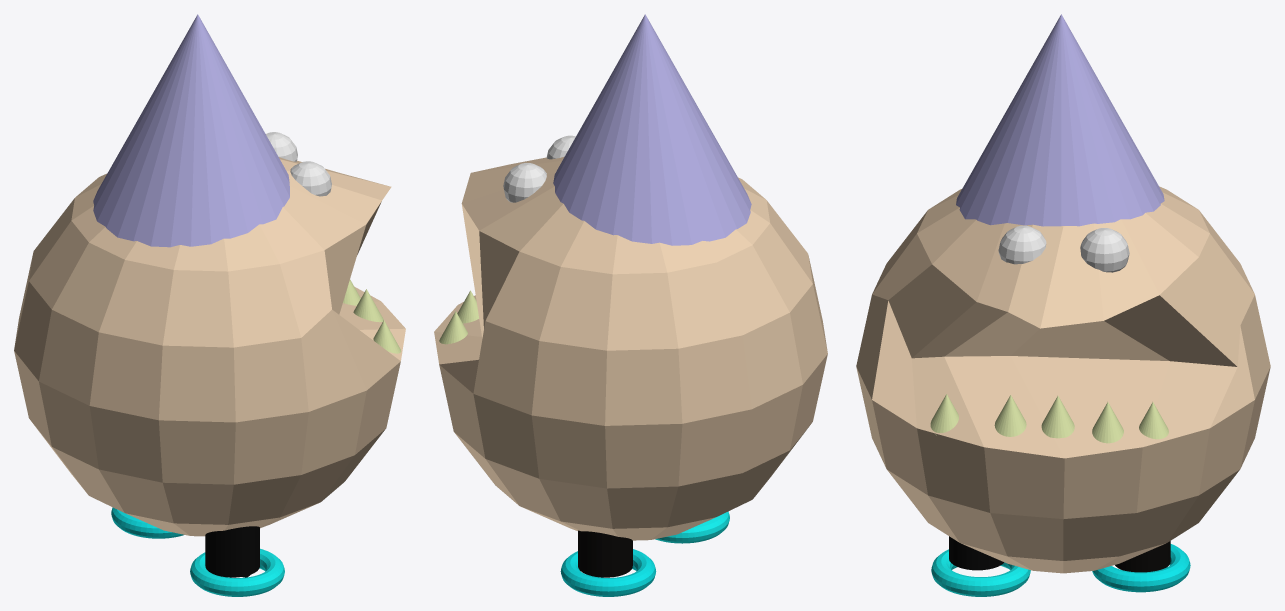
File: enemy.fbx
3 renders of one model, left to right at view 1: azimuth 30°, elevation 25°; view 2: azimuth 150°, elevation 25°; view 3: azimuth 270°, elevation 25°, orthographic. The views are drawn at different scales.
Parts seen in each view (by area): view 1: Sphere, Cone, Cylinder, Torus, Sphere.001, Torus.001, Sphere.002, Cone.002; view 2: Sphere, Cone, Torus.001, Cylinder.001, Sphere.002, Torus, Cone.004; view 3: Sphere, Cone, Torus, Torus.001, Sphere.002, Sphere.001, Cylinder, Cylinder.001, Cone.003, Cone.002, Cone.001, Cone.005 (+1 smaller).
Boxes of the visible parts, box(x1,y1,x2,y2) form: Sphere: box(14, 157, 405, 536); Cone: box(93, 14, 289, 247); Cylinder: box(205, 526, 259, 577); Torus: box(190, 548, 284, 596); Sphere.001: box(290, 161, 331, 196); Torus.001: box(111, 507, 183, 538); Sphere.002: box(266, 132, 297, 161); Cone.002: box(353, 289, 383, 322); Sphere: box(434, 156, 827, 540); Cone: box(553, 14, 751, 245); Torus.001: box(560, 549, 656, 596); Cylinder.001: box(578, 530, 632, 577); Sphere.002: box(503, 163, 546, 202); Torus: box(655, 511, 729, 543); Cone.004: box(439, 311, 467, 344); Sphere: box(856, 186, 1270, 573); Cone: box(956, 14, 1164, 226); Torus: box(931, 549, 1030, 596); Torus.001: box(1092, 544, 1190, 592); Sphere.002: box(1080, 228, 1129, 272); Sphere.001: box(998, 225, 1046, 264); Cylinder: box(949, 536, 1003, 570); Cylinder.001: box(1115, 541, 1170, 572); Cone.003: box(1041, 396, 1074, 438); Cone.002: box(994, 395, 1026, 436); Cone.001: box(1092, 402, 1123, 443); Cone.005: box(930, 394, 958, 435).
Size of the model in its own units: 200 by 301 by 200.
